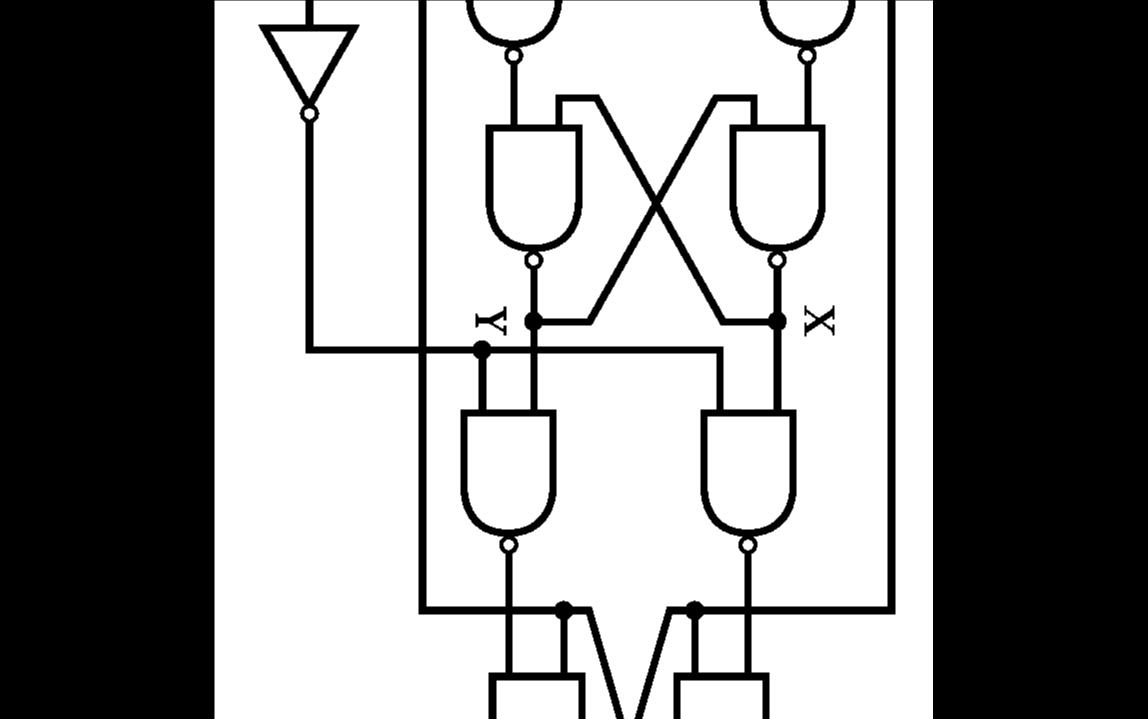nand: (684, 376, 818, 569), (446, 383, 578, 569), (463, 106, 590, 281), (722, 110, 836, 286), (449, 0, 596, 78), (743, 0, 873, 73), (663, 644, 778, 719), (472, 654, 593, 719)
not: (252, 2, 365, 129)
